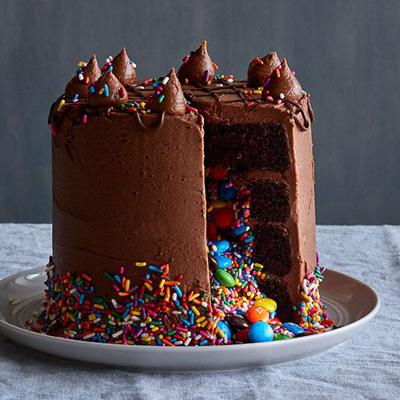cake: (44, 50, 323, 343)
